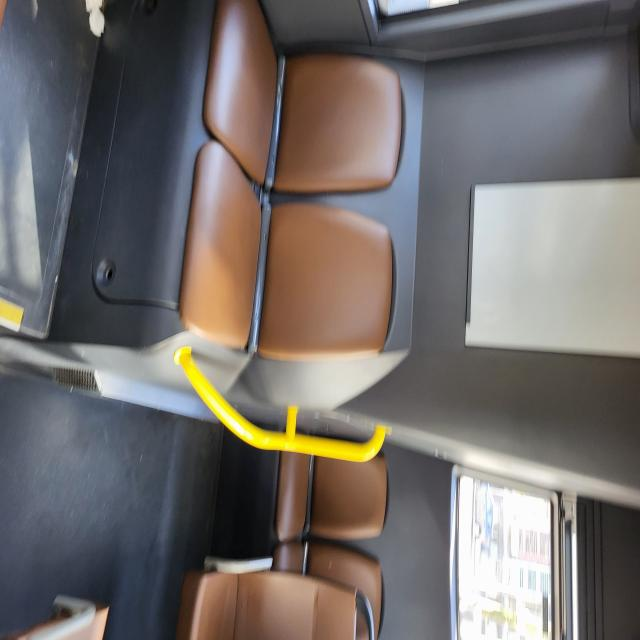asiento-libre: (265, 331, 427, 615), (160, 318, 305, 582), (581, 354, 640, 619), (567, 345, 639, 493), (499, 337, 566, 487)
